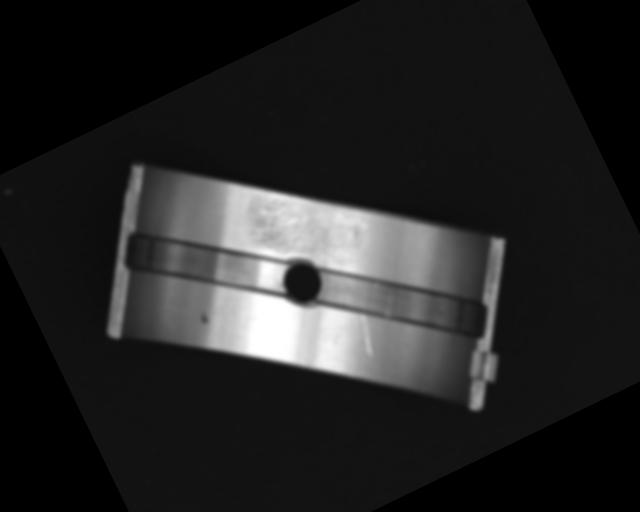bruise: (197, 309, 211, 326)
gap: (305, 219, 492, 389), (115, 183, 292, 345)
hole: (273, 254, 331, 312)
nick: (352, 313, 381, 357)
scratch: (244, 169, 376, 295)
